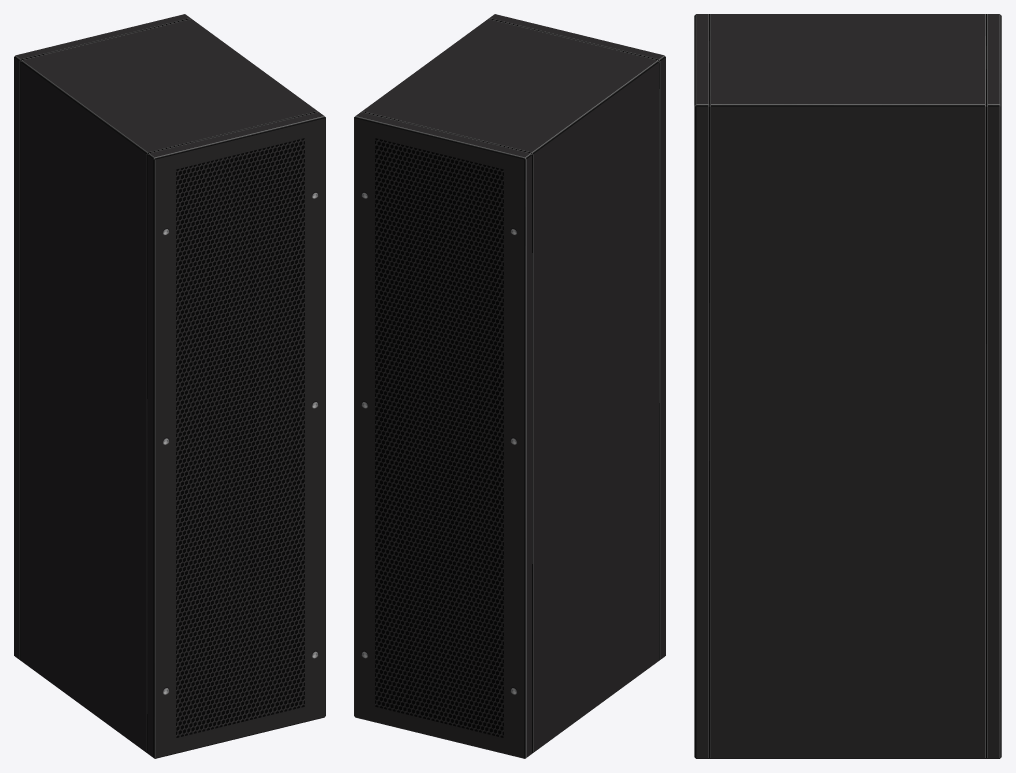
The model's file is gltf2.gltf.
3 views of the same model, side by side, from view 1: azimuth 30°, elevation 25°; view 2: azimuth 150°, elevation 25°; view 3: azimuth 270°, elevation 25° (orthographic). The views are drawn at different scales.
Visible parts, largest first — view 1: Lo-BODY_01; view 2: Lo-BODY_01; view 3: Lo-BODY_01.
Boxes of the visible parts, box(x1,y1,x2,y2) form: Lo-BODY_01: box(14, 14, 325, 758); Lo-BODY_01: box(354, 14, 665, 758); Lo-BODY_01: box(694, 14, 1001, 758).
Bounding box in the file's own units: 0.6 × 2 × 0.85.
2 materials, 2 textured.
